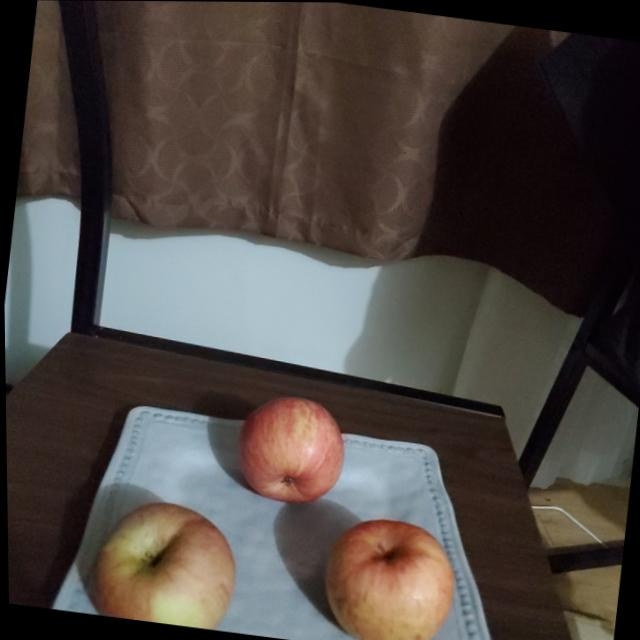apple: (83, 494, 240, 631), (316, 514, 462, 640), (228, 390, 348, 508)
